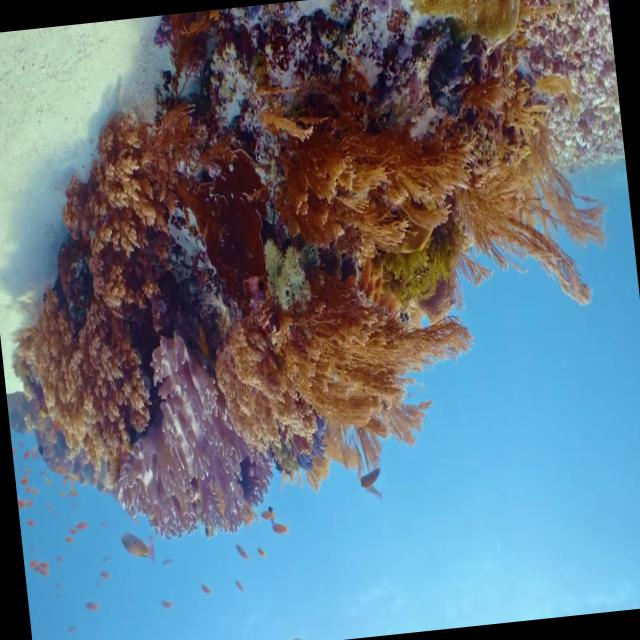fish: (118, 530, 156, 561)
